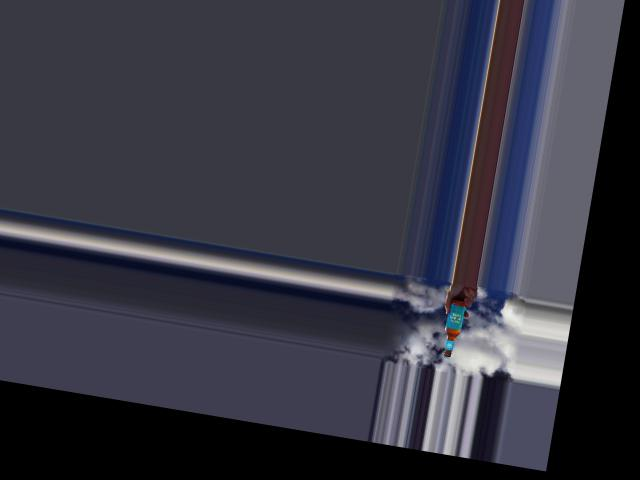beer: (440, 297, 465, 358)
